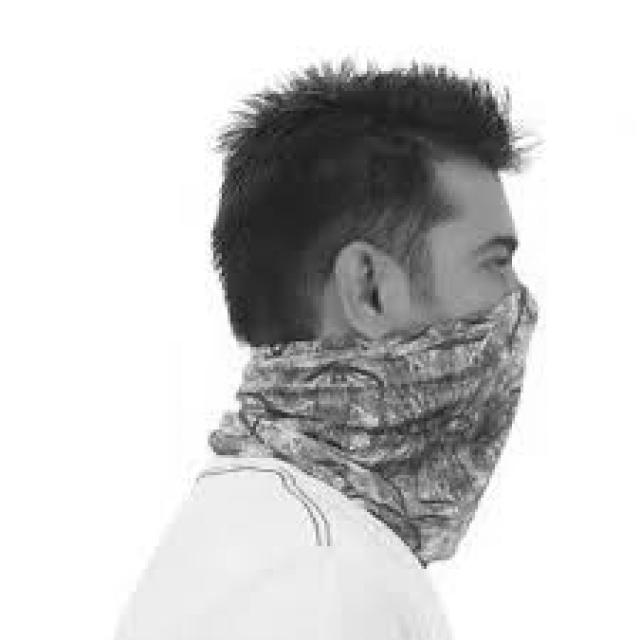without_mask: (208, 282, 538, 566)
